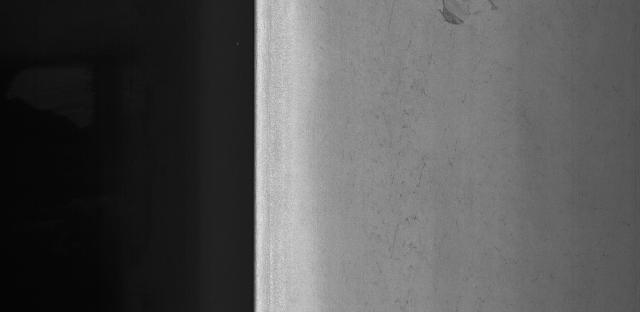silk_spot: (365, 60, 512, 293)
water_spot: (428, 2, 512, 39)
